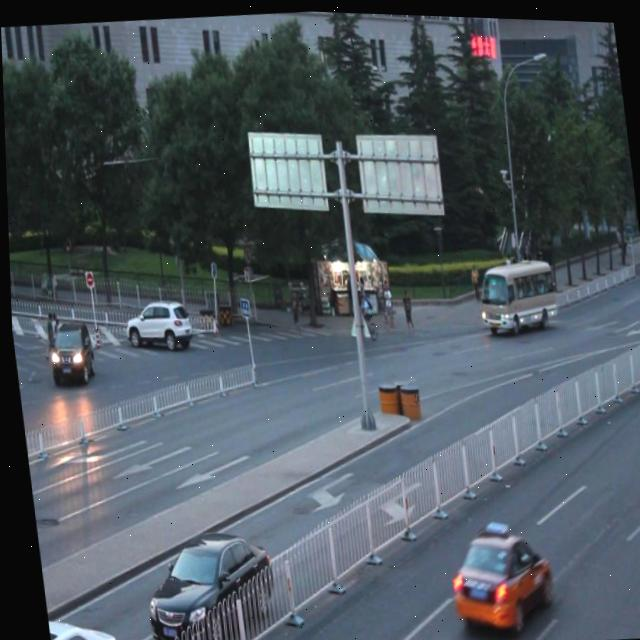car: (135, 526, 274, 640), (439, 520, 554, 630), (118, 295, 191, 355), (42, 312, 91, 383), (42, 608, 117, 640)
truck: (472, 254, 558, 331)
